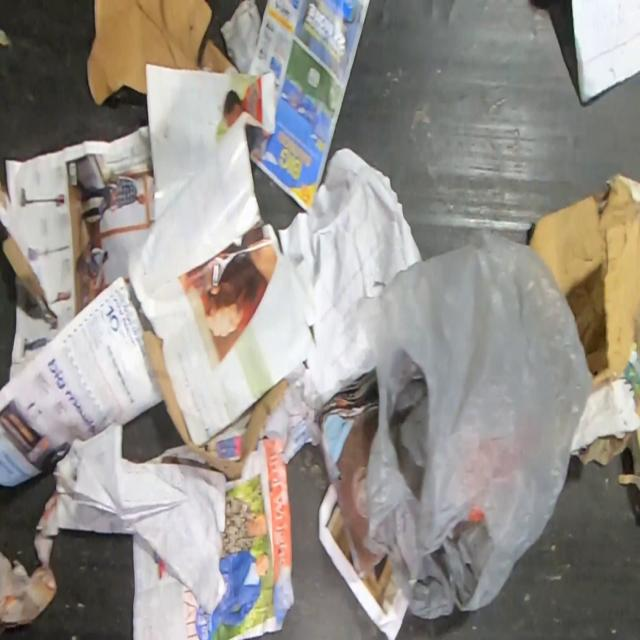cardboard: (528, 172, 640, 507), (140, 329, 288, 480), (85, 0, 241, 107), (0, 175, 60, 320)
soft_plastic: (350, 230, 593, 620)
